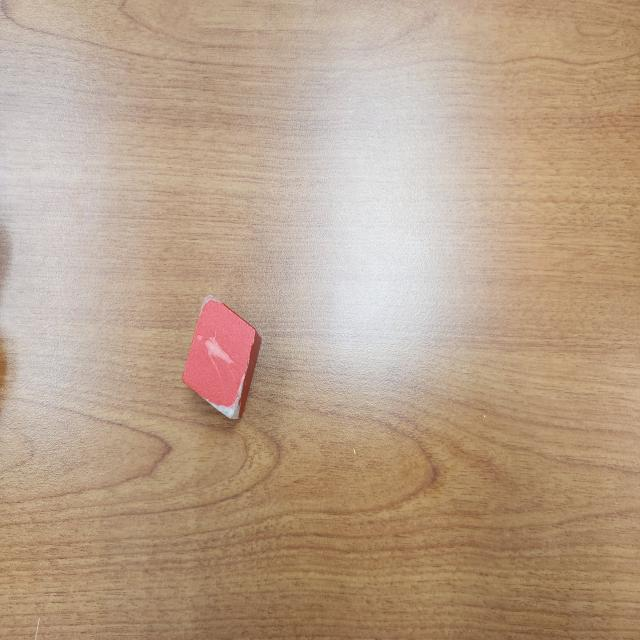broken: (183, 292, 262, 420)
